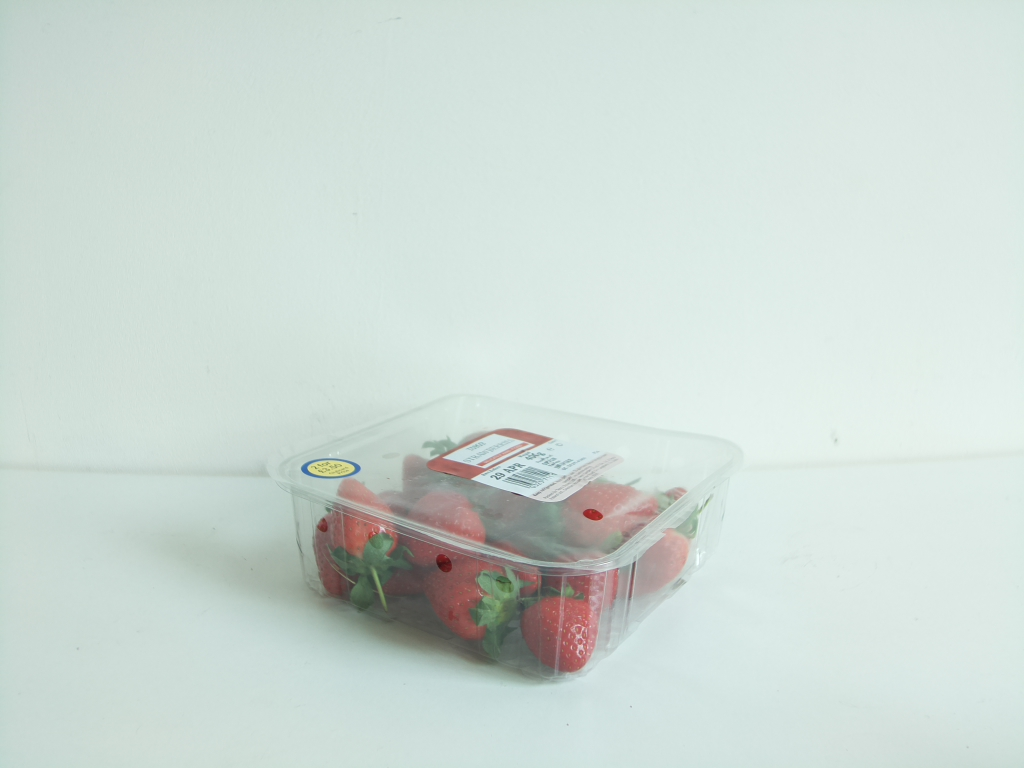soft-fruit: (266, 394, 742, 687)
